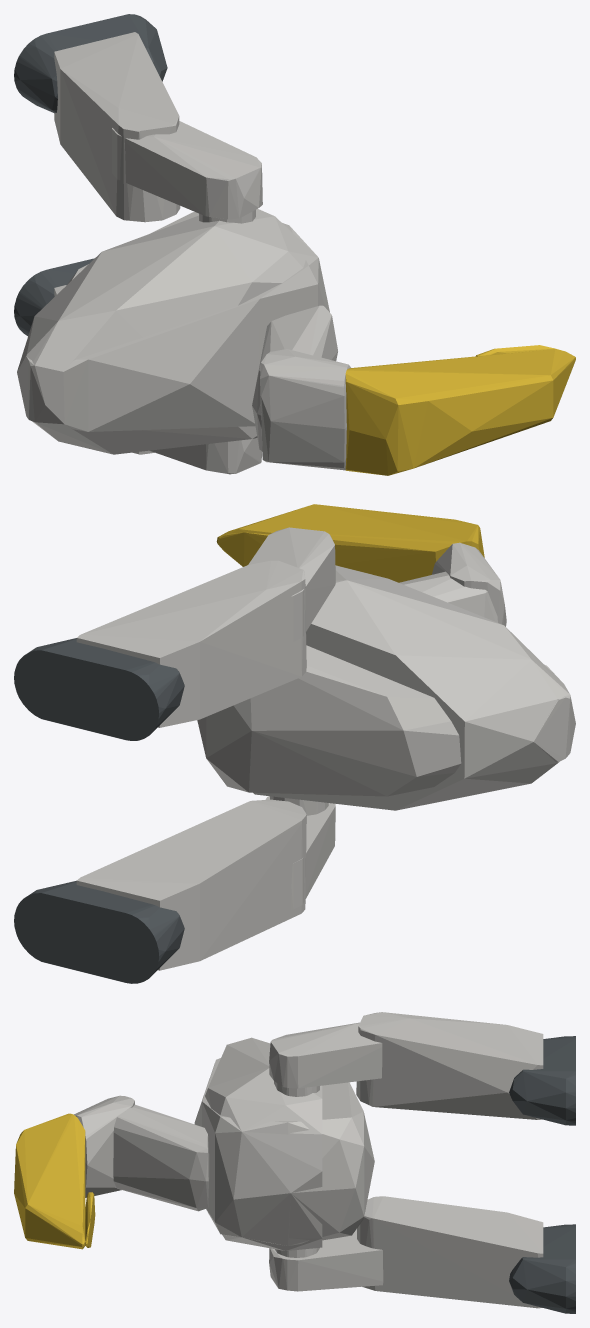
Rendered from runtime_contacts.glb.
3 views of the same model, one above another, from view 1: azimuth 30°, elevation 25°; view 2: azimuth 150°, elevation 25°; view 3: azimuth 270°, elevation 25° (orthographic). The views are drawn at different scales.
Visible parts, largest first — view 1: torso_upper_envelope, torso_central_keel, upper_bill_envelope, left_shin_envelope, left_thigh_envelope, neck_mid_pitch_envelope, left_actual_sole, neck_pitch_envelope, right_thigh_envelope, right_actual_sole; view 2: torso_upper_envelope, torso_central_keel, right_shin_envelope, left_shin_envelope, right_actual_sole, left_actual_sole, upper_bill_envelope, left_thigh_envelope, right_thigh_envelope, neck_mid_pitch_envelope, neck_pitch_envelope, lower_bill_envelope; view 3: left_shin_envelope, right_shin_envelope, torso_central_keel, torso_upper_envelope, upper_bill_envelope, neck_pitch_envelope, left_thigh_envelope, right_thigh_envelope, right_actual_sole, left_actual_sole, neck_mid_pitch_envelope, lower_bill_envelope.
Part boxes in pixels (x1,y1,x2,y2): torso_upper_envelope: (17,208,323,454); torso_central_keel: (17,212,329,431); upper_bill_envelope: (345,349,575,475); left_shin_envelope: (54,32,180,222); left_thigh_envelope: (112,121,262,219); neck_mid_pitch_envelope: (260,349,350,470); left_actual_sole: (14,14,167,113); neck_pitch_envelope: (252,305,337,451); right_thigh_envelope: (150,438,261,474); right_actual_sole: (14,258,94,335); torso_upper_envelope: (253,565,574,810); torso_central_keel: (197,645,575,796); right_shin_envelope: (76,799,306,970); left_shin_envelope: (76,560,306,727); right_actual_sole: (14,880,184,983); left_actual_sole: (14,638,184,740); upper_bill_envelope: (217,504,484,582); left_thigh_envelope: (248,527,335,641); right_thigh_envelope: (265,796,335,909); neck_mid_pitch_envelope: (432,542,506,626); neck_pitch_envelope: (399,571,498,622); lower_bill_envelope: (216,532,269,566); left_shin_envelope: (356,1012,543,1119); right_shin_envelope: (357,1196,543,1308); torso_central_keel: (194,1058,374,1245); torso_upper_envelope: (205,1037,322,1250); upper_bill_envelope: (14,1113,85,1249); neck_pitch_envelope: (113,1104,209,1211); left_thigh_envelope: (269,1022,382,1088); right_thigh_envelope: (269,1229,383,1291); right_actual_sole: (509,1224,575,1313); left_actual_sole: (509,1036,575,1125); neck_mid_pitch_envelope: (74,1095,134,1197); lower_bill_envelope: (85,1192,95,1247).
Size of the model in its own units: 0.4916 by 0.343 by 0.6762.
